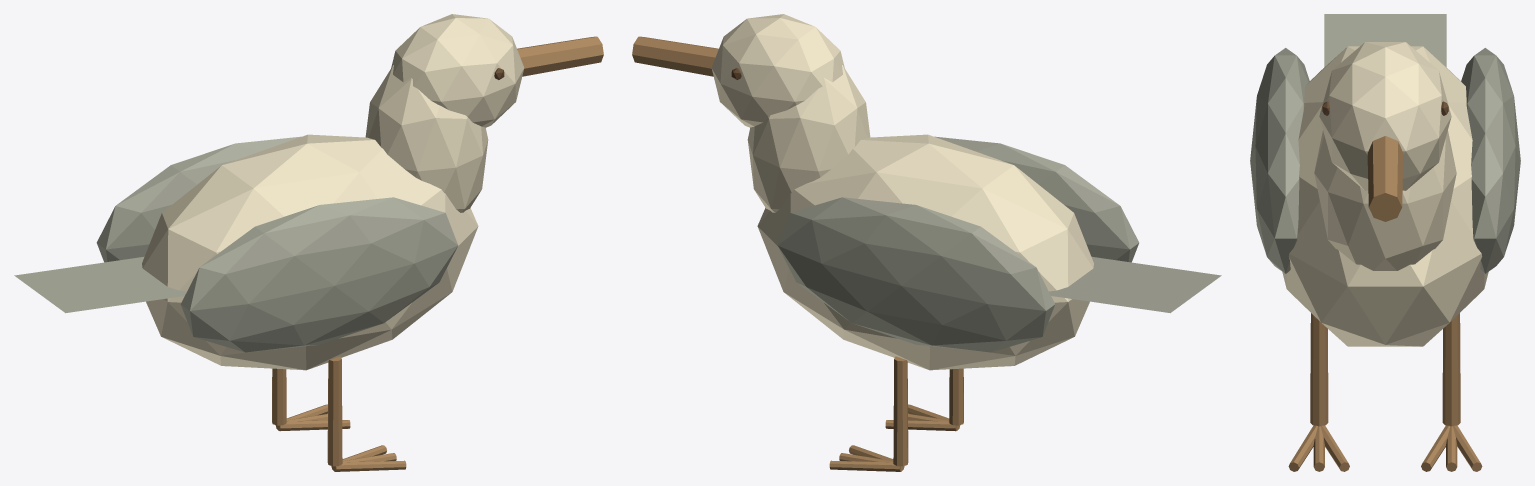
The picture shows the model from 3 angles, left to right: view 1: azimuth 30°, elevation 25°; view 2: azimuth 150°, elevation 25°; view 3: azimuth 270°, elevation 25°; orthographic projection. The views are drawn at different scales.
Visible parts, largest first — view 1: CE-009 Standing estuary seabird batched; view 2: CE-009 Standing estuary seabird batched; view 3: CE-009 Standing estuary seabird batched.
Part boxes in pixels (x1,y1,x2,y2): CE-009 Standing estuary seabird batched: (14, 14, 603, 471); CE-009 Standing estuary seabird batched: (632, 14, 1221, 471); CE-009 Standing estuary seabird batched: (1250, 14, 1520, 471).
Size of the model in its own units: 0.7512 by 0.5164 by 0.266.
